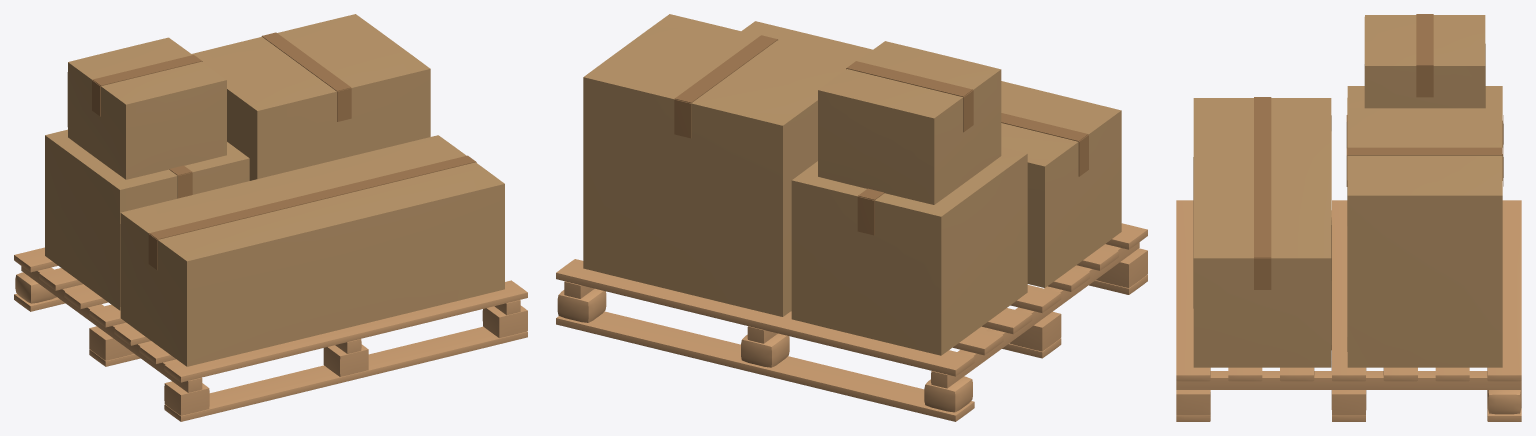
The model's file is pallet.glb.
The picture shows the model from 3 angles, left to right: view 1: azimuth 30°, elevation 25°; view 2: azimuth 150°, elevation 25°; view 3: azimuth 270°, elevation 25°; orthographic projection. The views are drawn at different scales.
Visible parts, largest first — view 1: assetPrim:asset_aac393c8-8ef7-493c-b84b-a16bf2f414b1:box-1-b, assetPrim:asset_aac393c8-8ef7-493c-b84b-a16bf2f414b1:box-3-b, assetPrim:asset_aac393c8-8ef7-493c-b84b-a16bf2f414b1:box-4-b, assetPrim:asset_aac393c8-8ef7-493c-b84b-a16bf2f414b1:box-2-b, assetPrim:asset_aac393c8-8ef7-493c-b84b-a16bf2f414b1:top-boa (×5), assetPrim:asset_aac393c8-8ef7-493c-b84b-a16bf2f414b1:bottom-, assetPrim:asset_aac393c8-8ef7-493c-b84b-a16bf2f414b1:blocks- (×5), assetPrim:asset_aac393c8-8ef7-493c-b84b-a16bf2f414b1:box-1-t, assetPrim:asset_aac393c8-8ef7-493c-b84b-a16bf2f414b1:stringe, assetPrim:asset_aac393c8-8ef7-493c-b84b-a16bf2f414b1:box-3-t, assetPrim:asset_aac393c8-8ef7-493c-b84b-a16bf2f414b1:box-4-t; view 2: assetPrim:asset_aac393c8-8ef7-493c-b84b-a16bf2f414b1:box-3-b, assetPrim:asset_aac393c8-8ef7-493c-b84b-a16bf2f414b1:box-2-b, assetPrim:asset_aac393c8-8ef7-493c-b84b-a16bf2f414b1:box-4-b, assetPrim:asset_aac393c8-8ef7-493c-b84b-a16bf2f414b1:box-1-b, assetPrim:asset_aac393c8-8ef7-493c-b84b-a16bf2f414b1:top-boa (×7), assetPrim:asset_aac393c8-8ef7-493c-b84b-a16bf2f414b1:bottom-, assetPrim:asset_aac393c8-8ef7-493c-b84b-a16bf2f414b1:blocks- (×5), assetPrim:asset_aac393c8-8ef7-493c-b84b-a16bf2f414b1:stringe, assetPrim:asset_aac393c8-8ef7-493c-b84b-a16bf2f414b1:box-3-t (×2), assetPrim:asset_aac393c8-8ef7-493c-b84b-a16bf2f414b1:box-4-t, assetPrim:asset_aac393c8-8ef7-493c-b84b-a16bf2f414b1:box-1-t, assetPrim:asset_aac393c8-8ef7-493c-b84b-a16bf2f414b1:box-2-t; view 3: assetPrim:asset_aac393c8-8ef7-493c-b84b-a16bf2f414b1:box-3-b, assetPrim:asset_aac393c8-8ef7-493c-b84b-a16bf2f414b1:box-1-b, assetPrim:asset_aac393c8-8ef7-493c-b84b-a16bf2f414b1:top-boa (×7), assetPrim:asset_aac393c8-8ef7-493c-b84b-a16bf2f414b1:box-4-b, assetPrim:asset_aac393c8-8ef7-493c-b84b-a16bf2f414b1:stringe, assetPrim:asset_aac393c8-8ef7-493c-b84b-a16bf2f414b1:box-1-t (×2), assetPrim:asset_aac393c8-8ef7-493c-b84b-a16bf2f414b1:blocks- (×3), assetPrim:asset_aac393c8-8ef7-493c-b84b-a16bf2f414b1:box-4-t (×2), assetPrim:asset_aac393c8-8ef7-493c-b84b-a16bf2f414b1:box-3-t, assetPrim:asset_aac393c8-8ef7-493c-b84b-a16bf2f414b1:box-2-b.
Boxes of the visible parts, <box> form: assetPrim:asset_aac393c8-8ef7-493c-b84b-a16bf2f414b1:box-1-b: <box>120,135,504,366</box>; assetPrim:asset_aac393c8-8ef7-493c-b84b-a16bf2f414b1:box-3-b: <box>192,14,430,180</box>; assetPrim:asset_aac393c8-8ef7-493c-b84b-a16bf2f414b1:box-4-b: <box>67,37,226,179</box>; assetPrim:asset_aac393c8-8ef7-493c-b84b-a16bf2f414b1:box-2-b: <box>45,129,249,310</box>; assetPrim:asset_aac393c8-8ef7-493c-b84b-a16bf2f414b1:top-boa (×5): <box>14,247,527,382</box>; assetPrim:asset_aac393c8-8ef7-493c-b84b-a16bf2f414b1:bottom-: <box>164,326,527,421</box>; assetPrim:asset_aac393c8-8ef7-493c-b84b-a16bf2f414b1:blocks- (×5): <box>15,272,527,415</box>; assetPrim:asset_aac393c8-8ef7-493c-b84b-a16bf2f414b1:box-1-t: <box>149,155,475,239</box>; assetPrim:asset_aac393c8-8ef7-493c-b84b-a16bf2f414b1:stringe: <box>21,266,202,392</box>; assetPrim:asset_aac393c8-8ef7-493c-b84b-a16bf2f414b1:box-3-t: <box>261,32,351,91</box>; assetPrim:asset_aac393c8-8ef7-493c-b84b-a16bf2f414b1:box-4-t: <box>92,55,202,85</box>; assetPrim:asset_aac393c8-8ef7-493c-b84b-a16bf2f414b1:box-3-b: <box>583,14,858,316</box>; assetPrim:asset_aac393c8-8ef7-493c-b84b-a16bf2f414b1:box-2-b: <box>791,147,1027,355</box>; assetPrim:asset_aac393c8-8ef7-493c-b84b-a16bf2f414b1:box-4-b: <box>818,41,1001,204</box>; assetPrim:asset_aac393c8-8ef7-493c-b84b-a16bf2f414b1:box-1-b: <box>741,21,1121,287</box>; assetPrim:asset_aac393c8-8ef7-493c-b84b-a16bf2f414b1:top-boa (×7): <box>556,223,1147,376</box>; assetPrim:asset_aac393c8-8ef7-493c-b84b-a16bf2f414b1:bottom-: <box>556,311,974,421</box>; assetPrim:asset_aac393c8-8ef7-493c-b84b-a16bf2f414b1:blocks- (×5): <box>557,248,1147,412</box>; assetPrim:asset_aac393c8-8ef7-493c-b84b-a16bf2f414b1:stringe: <box>931,242,1139,388</box>; assetPrim:asset_aac393c8-8ef7-493c-b84b-a16bf2f414b1:box-3-t (×2): <box>674,35,777,138</box>; assetPrim:asset_aac393c8-8ef7-493c-b84b-a16bf2f414b1:box-4-t: <box>846,61,972,96</box>; assetPrim:asset_aac393c8-8ef7-493c-b84b-a16bf2f414b1:box-1-t: <box>1001,113,1088,141</box>; assetPrim:asset_aac393c8-8ef7-493c-b84b-a16bf2f414b1:box-2-t: <box>857,196,874,235</box>; assetPrim:asset_aac393c8-8ef7-493c-b84b-a16bf2f414b1:box-3-b: <box>1347,108,1502,367</box>; assetPrim:asset_aac393c8-8ef7-493c-b84b-a16bf2f414b1:box-1-b: <box>1193,98,1331,367</box>; assetPrim:asset_aac393c8-8ef7-493c-b84b-a16bf2f414b1:top-boa (×7): <box>1176,200,1521,381</box>; assetPrim:asset_aac393c8-8ef7-493c-b84b-a16bf2f414b1:box-4-b: <box>1364,15,1485,108</box>; assetPrim:asset_aac393c8-8ef7-493c-b84b-a16bf2f414b1:stringe: <box>1176,371,1521,389</box>; assetPrim:asset_aac393c8-8ef7-493c-b84b-a16bf2f414b1:box-1-t (×2): <box>1254,97,1271,289</box>; assetPrim:asset_aac393c8-8ef7-493c-b84b-a16bf2f414b1:blocks- (×3): <box>1176,390,1521,415</box>; assetPrim:asset_aac393c8-8ef7-493c-b84b-a16bf2f414b1:box-4-t (×2): <box>1416,14,1433,97</box>; assetPrim:asset_aac393c8-8ef7-493c-b84b-a16bf2f414b1:box-3-t: <box>1347,147,1502,155</box>; assetPrim:asset_aac393c8-8ef7-493c-b84b-a16bf2f414b1:box-2-b: <box>1347,86,1502,123</box>.
Bounding box in the file's own units: 1.2 × 0.802 × 1.
